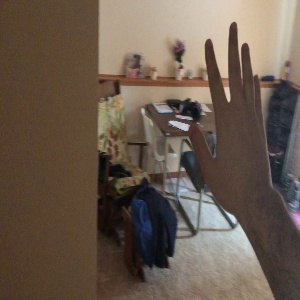hand: (189, 23, 274, 196)
